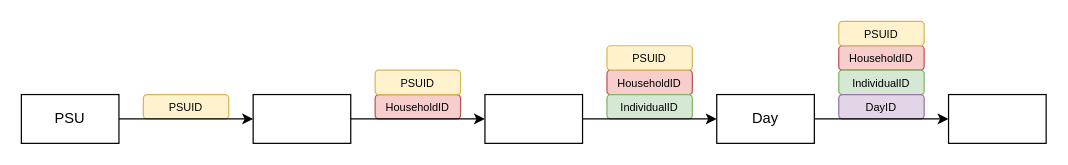
Image size: 1068x165. Some labels were removed from this diagram. Each missing label, with the centre of its shape:
Household: point 301,118
Individual: point 533,118
Trip: point 996,118
